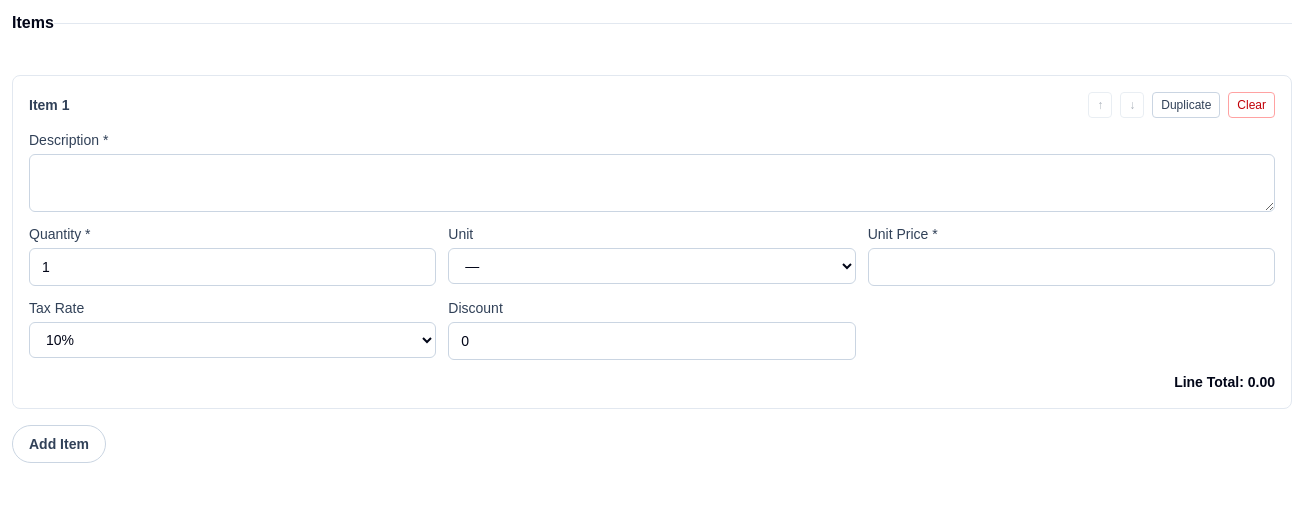
it: LineItemsSection › shows a field-level error for a missing description after blur
This screenshot has width=1292, height=528.
Click the text box labelled "Description": point(652, 183) 29,154 -> 1275,212
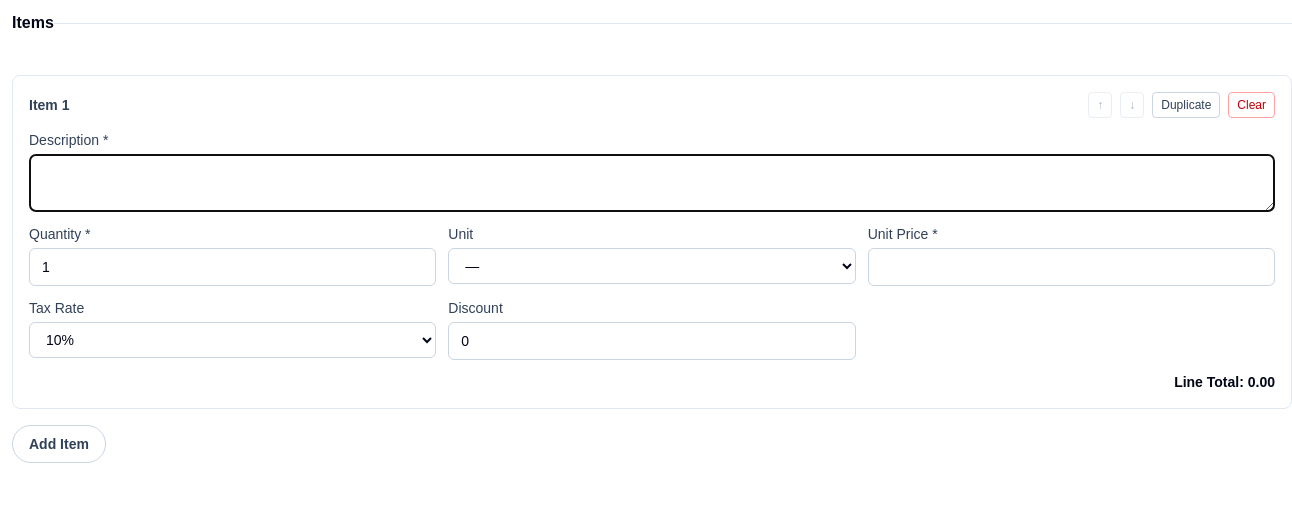
Press Tab
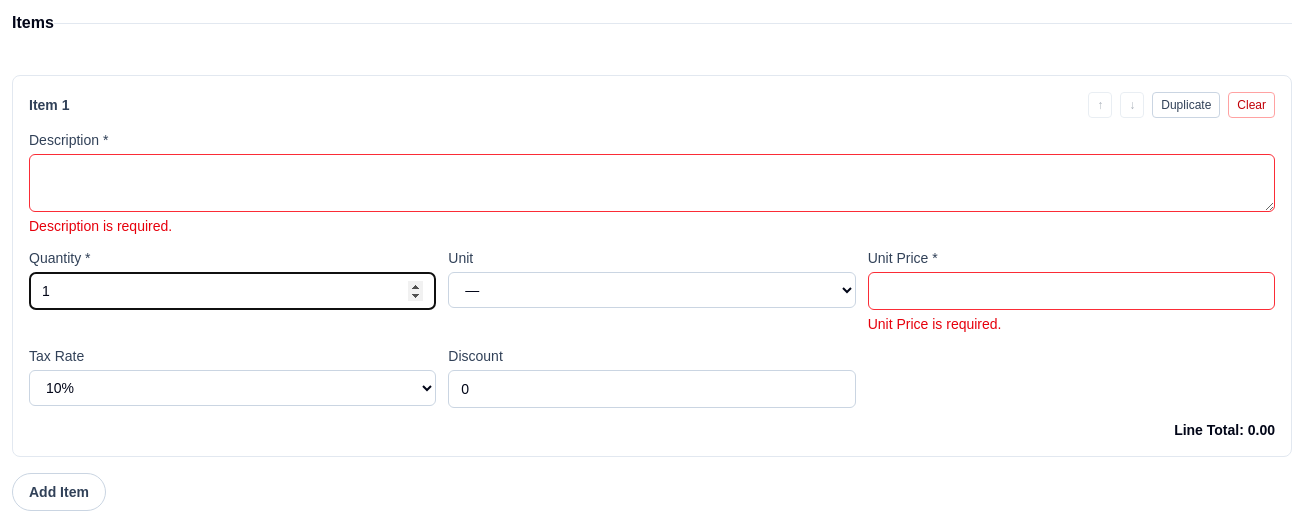
Check: the text "Description is required." is shown, box 29,218 -> 172,234
